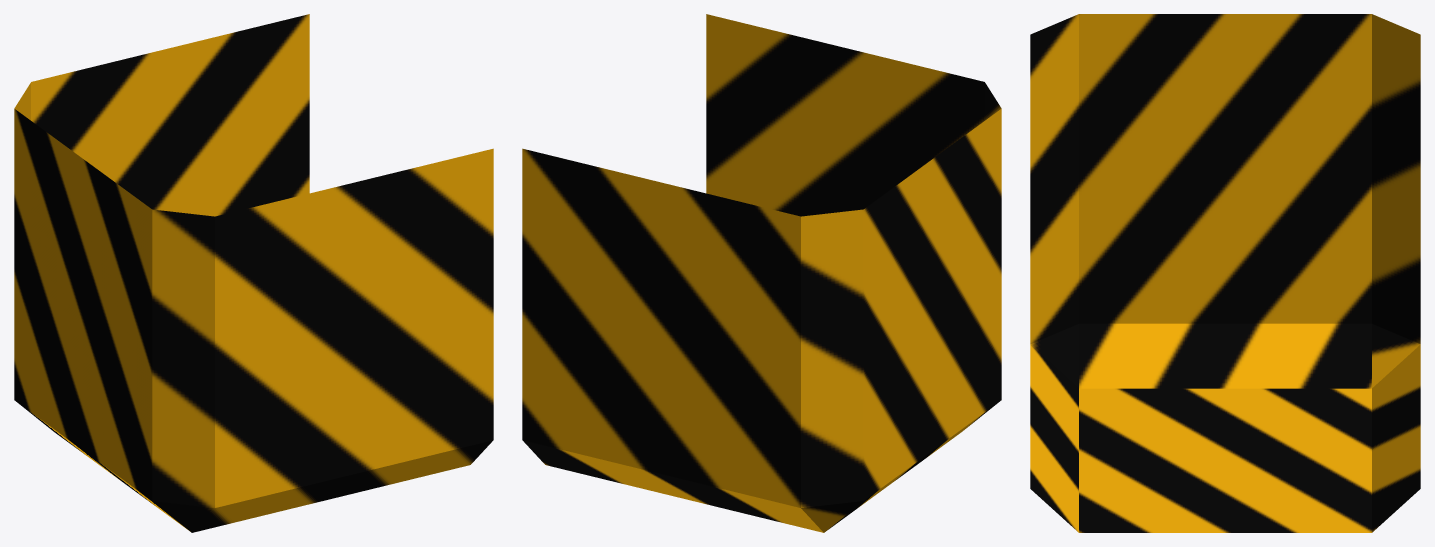
File: Bevel_3.fbx
3 renders of one model, left to right at view 1: azimuth 30°, elevation 25°; view 2: azimuth 150°, elevation 25°; view 3: azimuth 270°, elevation 25°, orthographic. The views are drawn at different scales.
Visible parts, largest first — view 1: Bevel_3; view 2: Bevel_3; view 3: Bevel_3.
Part boxes in pixels (x1,y1,x2,y2): Bevel_3: (14, 14, 493, 532); Bevel_3: (522, 14, 1001, 532); Bevel_3: (1030, 14, 1420, 532).
Bounding box in the file's own units: 10000 × 10000 × 10000.
